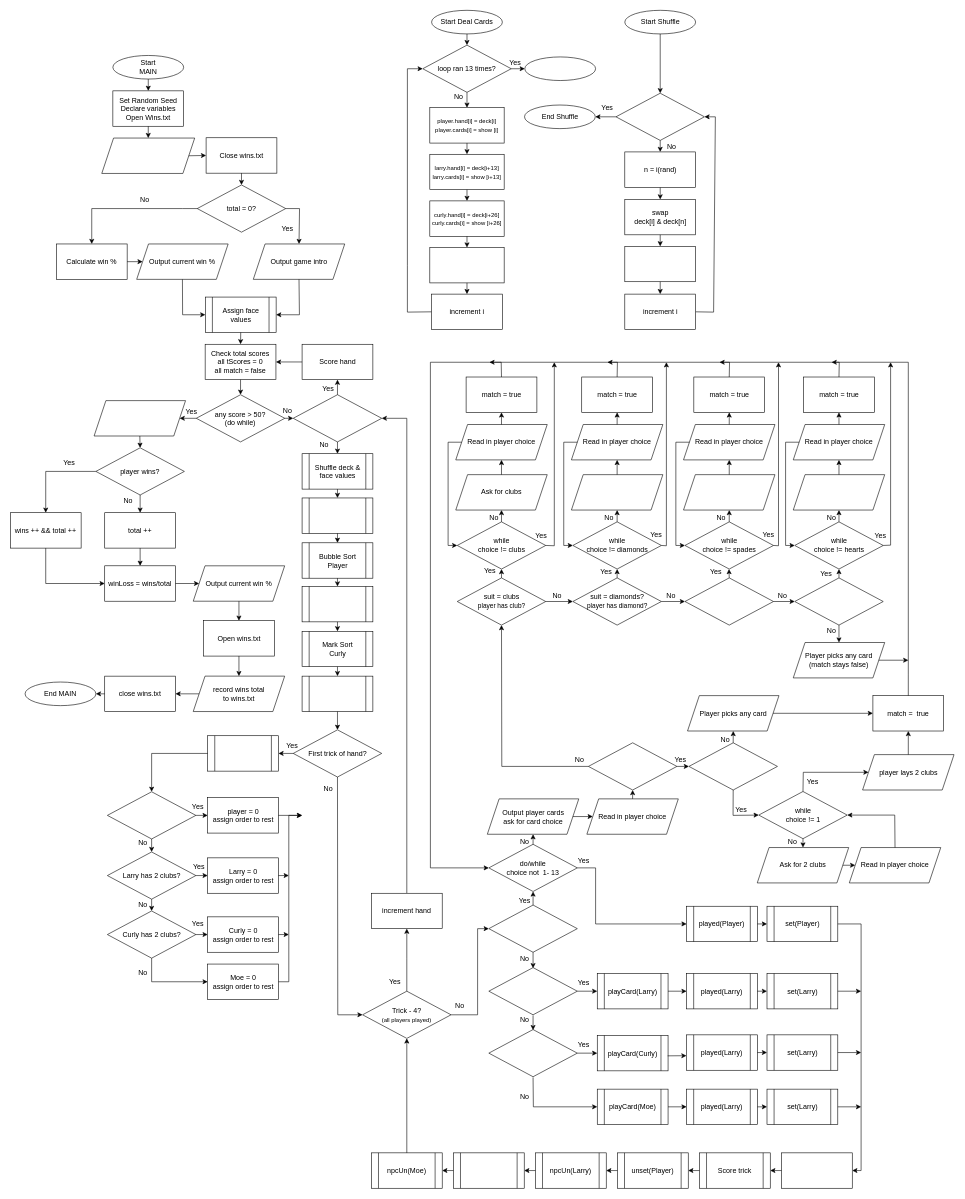
Some shapes in this 965 by 1199 pixel diagram are drawn without their labels. Here are the shapes that lost their labels. From the top down, the centre of each, then its label:
(x=560, y=68): End Deal Cards
(x=659, y=116): loop run 52 times?
(x=148, y=155): Read in wins & total
(x=466, y=265): moe.hand[i] = deck[i+39] moe.cards[i] = show [i+39]
(x=660, y=264): swap show[i] & show[n]
(x=140, y=418): Output winner message
(x=337, y=418): 13 hands played?
(x=617, y=492): Ask for diamondss
(x=729, y=492): Ask for spades
(x=839, y=492): Ask for hearts
(x=337, y=515): deal cards
(x=337, y=604): Selection Sort Larry
(x=728, y=601): suit = spades? player has spade?
(x=838, y=601): suit = hearts? player has heart?
(x=337, y=694): Mark Sort Moe
(x=242, y=753): Linear search to find 2 clubs
(x=632, y=766): player order == 0?
(x=732, y=766): player have 2 clubs?
(x=151, y=815): Player has 2 clubs?
(x=532, y=928): Player's turn?
(x=532, y=991): Larry's turn?
(x=532, y=1053): Curly's turn?
(x=488, y=1170): npcUn(Curly)
(x=816, y=1170): increment trick
